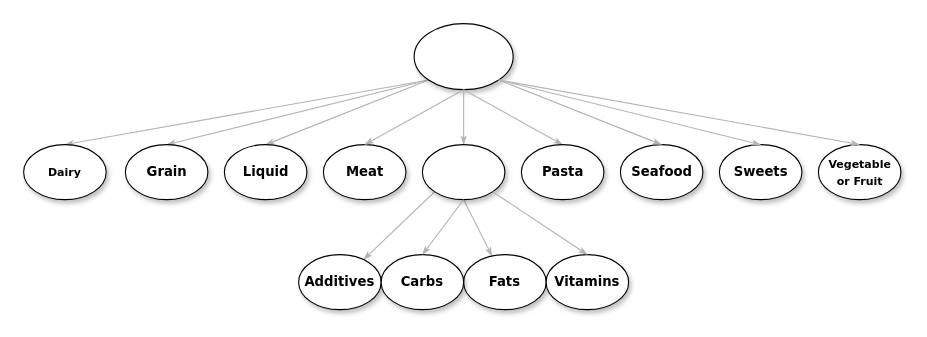
The diagram is 927 pixels wide and 337 high, and some of its shapes have lost their labels. The centre of each missing label's shape, as x and y in pixels:
"Food" goes at [464,57].
"Nutrient" goes at [464,173].
